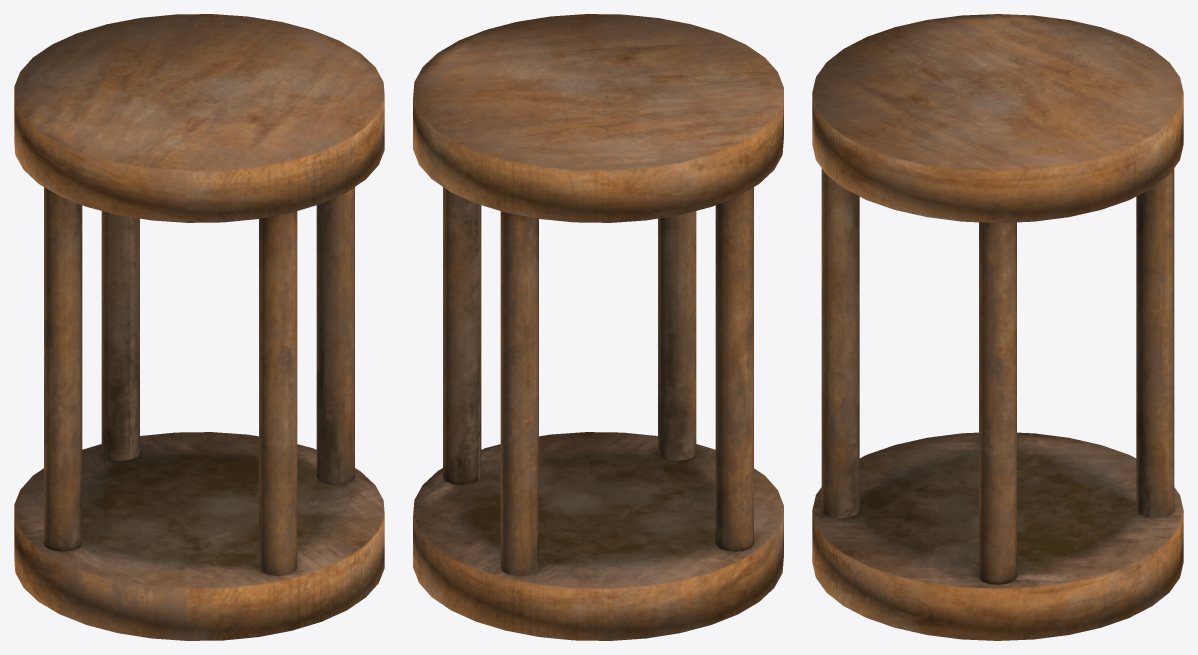
File: RelojArenaHighPoly.fbx
3 renders of one model, left to right at view 1: azimuth 30°, elevation 25°; view 2: azimuth 150°, elevation 25°; view 3: azimuth 270°, elevation 25°, orthographic.
Parts seen in each view (by area): view 1: Cube.109; view 2: Cube.109; view 3: Cube.109.
Part boxes in pixels (box(x1,y1,x2,y2)): Cube.109: box(14, 14, 384, 640); Cube.109: box(413, 14, 783, 640); Cube.109: box(812, 14, 1183, 640).
Bounding box in the file's own units: 21.15 × 29.55 × 21.15.
